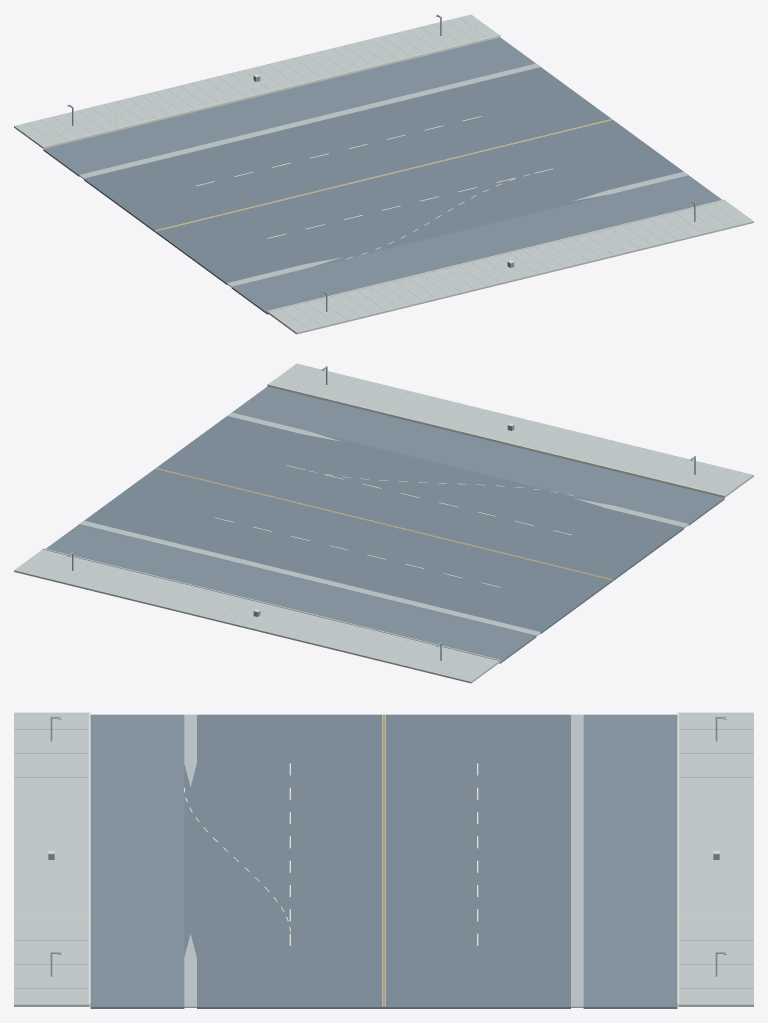
File: city-w98-s78.glb
3 views of the same model, one above another, from view 1: azimuth 30°, elevation 25°; view 2: azimuth 150°, elevation 25°; view 3: azimuth 270°, elevation 25° (orthographic). The views are drawn at different scales.
Parts seen in each view (by area): view 1: Main_road, Frontage_roads, Sidewalk, Medians, Curbs, Paving_joints, Merge_surface, Center_lines; view 2: Main_road, Frontage_roads, Sidewalk, Medians, Curbs, Paving_joints, Merge_surface, Center_lines; view 3: Main_road, Frontage_roads, Sidewalk, Medians, Paving_joints, Merge_surface, Curbs, Center_lines.
Boxes of the visible parts, x1,y1,x2,y2 form: Main_road: (84, 67, 683, 284); Frontage_roads: (43, 37, 721, 314); Sidewalk: (14, 14, 753, 334); Medians: (79, 63, 688, 287); Curbs: (42, 35, 725, 313); Paving_joints: (14, 17, 741, 332); Merge_surface: (309, 192, 608, 267); Center_lines: (155, 119, 612, 231); Main_road: (84, 416, 683, 633); Frontage_roads: (46, 386, 724, 663); Sidewalk: (14, 363, 753, 683); Medians: (79, 412, 688, 636); Curbs: (42, 384, 725, 662); Paving_joints: (26, 366, 753, 681); Merge_surface: (306, 432, 606, 508); Center_lines: (155, 468, 612, 580); Main_road: (197, 714, 570, 1008); Frontage_roads: (90, 714, 677, 1008); Sidewalk: (14, 712, 753, 1006); Medians: (184, 714, 583, 1007); Paving_joints: (14, 712, 753, 996); Merge_surface: (184, 763, 196, 957); Curbs: (89, 712, 678, 1006); Center_lines: (382, 714, 385, 1006).
Bounding box in the file's own units: 72 × 3.26 × 77.1.
